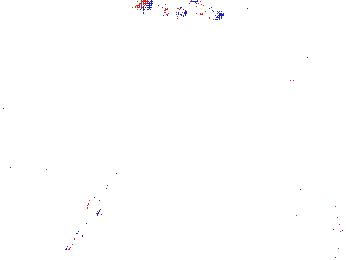glassfish: (69, 157, 135, 249), (198, 129, 268, 196)
red belly glassfish: (243, 4, 271, 26)
redtail glassfish: (139, 1, 187, 21), (187, 1, 226, 21)
